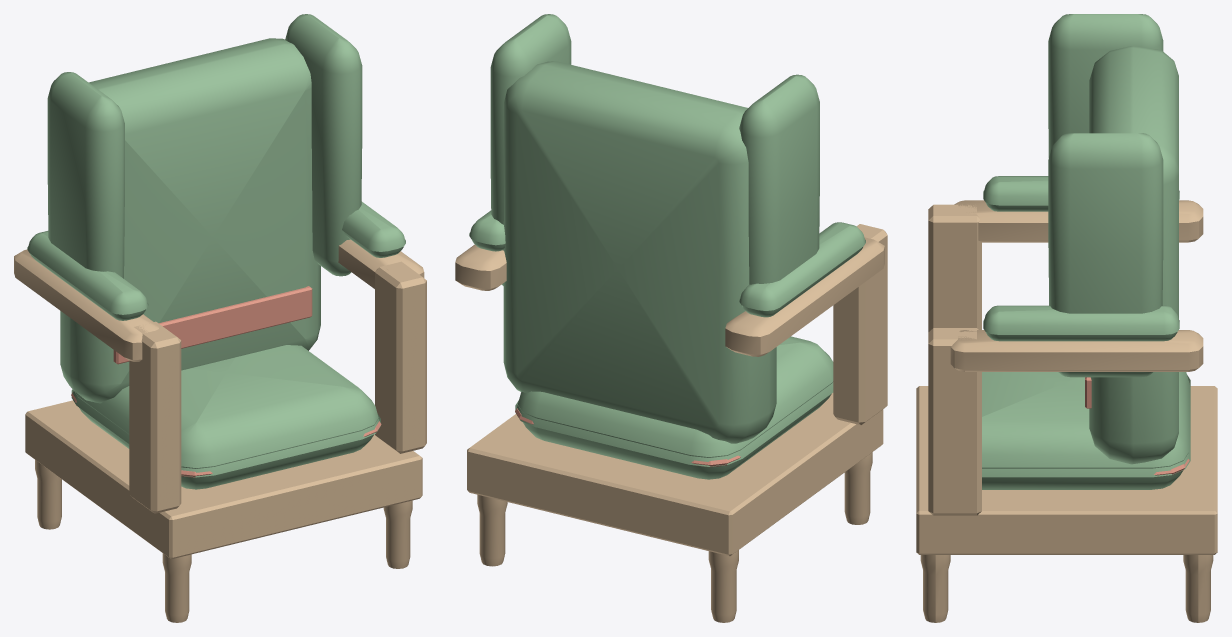
File: care-home-and-day-room-high-back-armchair-green-a759c0d7.glb
3 renders of one model, left to right at view 1: azimuth 30°, elevation 25°; view 2: azimuth 150°, elevation 25°; view 3: azimuth 270°, elevation 25°, orthographic. The views are drawn at different scales.
Parts seen in each view (by area): view 1: high-back-armchair-green; view 2: high-back-armchair-green; view 3: high-back-armchair-green.
Boxes of the visible parts, box(x1,y1,x2,y2) form: high-back-armchair-green: box(14, 14, 426, 622); high-back-armchair-green: box(455, 14, 887, 622); high-back-armchair-green: box(916, 14, 1217, 622).
Bounding box in the file's own units: 0.73 × 1.11 × 0.62.
